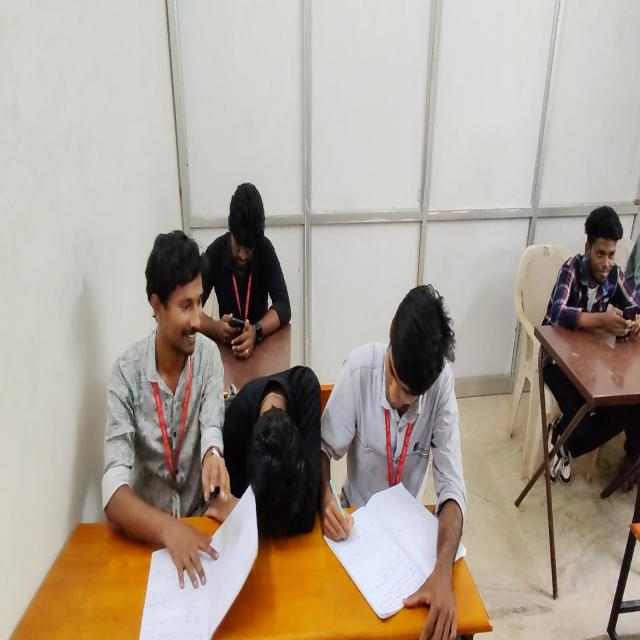sleeping: (214, 360, 336, 550)
turning: (98, 223, 242, 604)
using_mobile: (192, 158, 294, 366), (532, 183, 640, 372)
writing: (310, 249, 473, 640)
